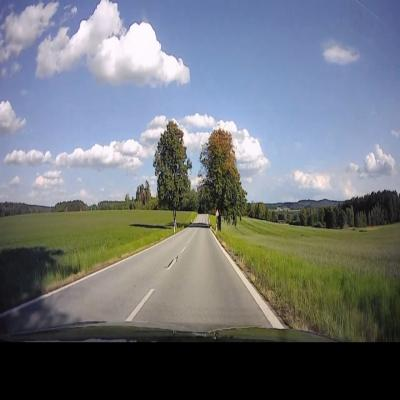clear-road: (0, 227, 271, 335)
